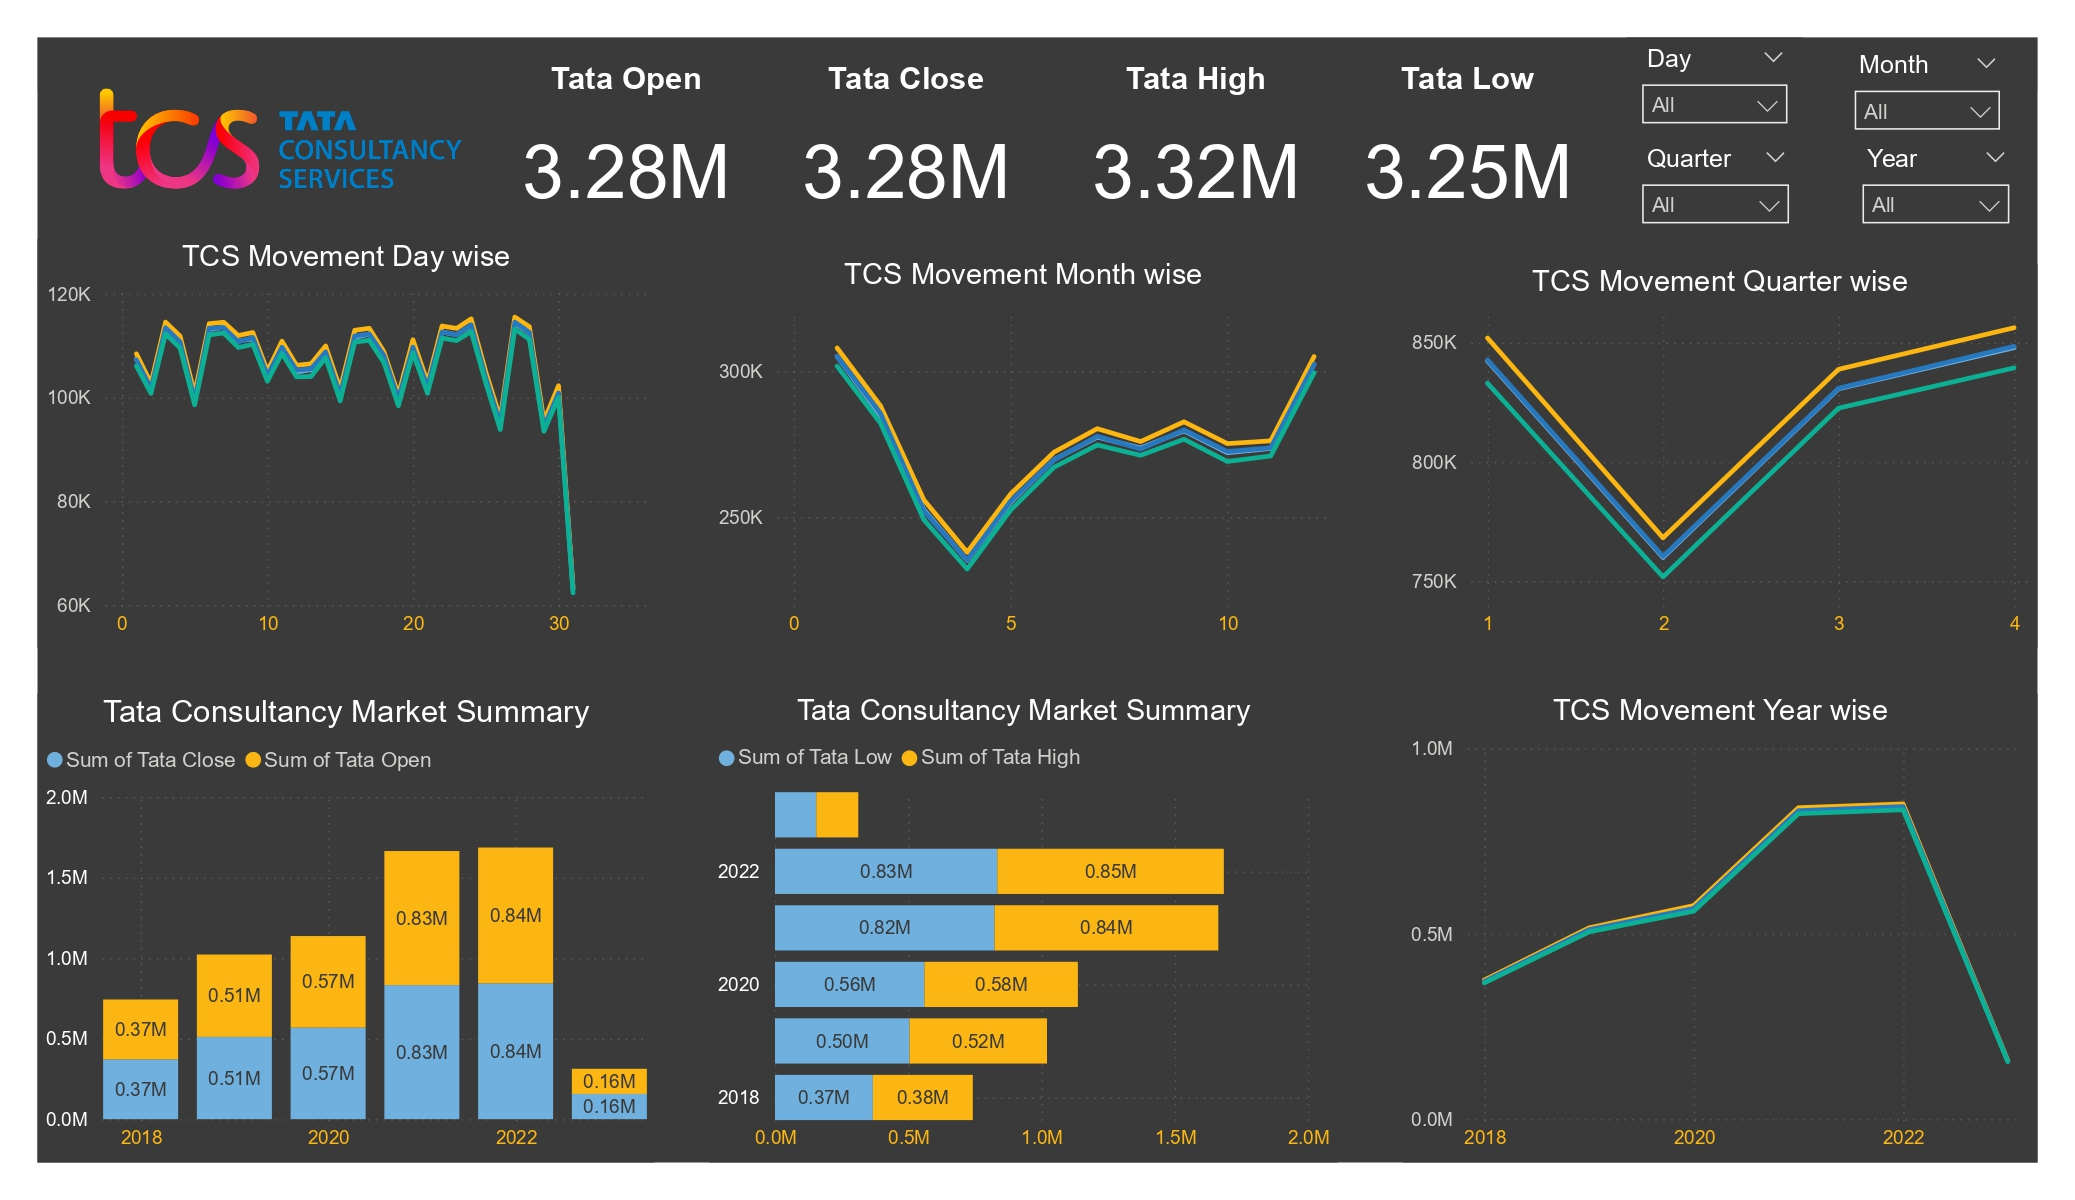

What the dashboard file says about the page in this screenshot:
{"tool":"powerbi","page":{"name":"TCS","canvas":[1280,720],"ordinal":0},"visuals":[{"type":"image","box":[0,0,328,140],"z":0},{"type":"card","title":"Tata Open ","fields":{"Values":["Sum(TCS NS.Tata Open)"]},"box":[328,9.6,156.4,109.8],"z":1},{"type":"card","title":"Tata High","fields":{"Values":["Sum(TCS NS.Tata High)"]},"box":[664.2,6.9,155.1,112.5],"z":2},{"type":"card","title":"Tata Low","fields":{"Values":["Sum(TCS NS.Tata Low)"]},"box":[499.5,6.9,140,112.5],"z":3},{"type":"card","title":"Tata Close","fields":{"Values":["Sum(TCS NS.Tata Close)"]},"box":[832.9,6.9,166,109.8],"z":4},{"type":"columnChart","title":" Tata Consultancy Market Summary ","fields":{"Category":["TCS NS.Year"],"Y":["Sum(TCS NS.Tata Open)","Sum(TCS NS.Tata Close)"]},"box":[0,444.6,377.4,275.8],"z":5},{"type":"barChart","title":" Tata Consultancy Market Summary ","fields":{"Category":["TCS NS.Year"],"Y":["Sum(TCS NS.Tata High)","Sum(TCS NS.Tata Low)"]},"box":[424,444.6,377.4,275.8],"z":6},{"type":"lineChart","title":"TCS Stock Movement Day wise","fields":{"Category":["TCS NS.Day"],"Y":["Sum(TCS NS.Tata Close)","Sum(TCS NS.Tata High)","Sum(TCS NS.Tata Low)","Sum(TCS NS.Tata Open)"]},"box":[0,161.9,377.4,245.6],"z":7},{"type":"lineChart","title":"TCS Stock Movement Month wise","fields":{"Y":["Sum(TCS NS.Tata Close)","Sum(TCS NS.Tata High)","Sum(TCS NS.Tata Low)","Sum(TCS NS.Tata Open)"],"Category":["TCS NS.Months"]},"box":[424,161.9,377.4,245.6],"z":8},{"type":"lineChart","title":"TCS Stock Movement Quarter wise","fields":{"Y":["Sum(TCS NS.Tata Close)","Sum(TCS NS.Tata High)","Sum(TCS NS.Tata Low)","Sum(TCS NS.Tata Open)"],"Category":["TCS NS.Quarter"]},"box":[832.9,161.9,395.2,245.6],"z":9},{"type":"lineChart","title":"TCS Stock Movement Yearly wise","fields":{"Y":["Sum(TCS NS.Tata Close)","Sum(TCS NS.Tata High)","Sum(TCS NS.Tata Low)","Sum(TCS NS.Tata Open)"],"Category":["TCS NS.Year"]},"box":[832.9,444.6,395.2,275.8],"z":10},{"type":"slicer","fields":{"Values":["TCS NS.Date.Variation.Date Hierarchy.Year"]},"box":[999,9.6,124.9,65.9],"z":11},{"type":"slicer","fields":{"Values":["TCS NS.Day"]},"box":[1143.1,75.5,115.3,64.5],"z":12},{"type":"slicer","fields":{"Values":["TCS NS.Quarter"]},"box":[1143.1,9.6,115.3,65.9],"z":13},{"type":"slicer","fields":{"Values":["TCS NS.Months"]},"box":[999,75.5,124.9,64.5],"z":14}]}

Visuals, with their boxes in screenshot pixels (x1, y1, x2, y2):
image: 38,38,550,256
"Tata Open " card: 550,52,794,224
"Tata High" card: 1075,48,1318,224
"Tata Low" card: 818,48,1037,224
"Tata Close" card: 1339,48,1598,220
" Tata Consultancy Market Summary " columnChart: 38,732,627,1162
" Tata Consultancy Market Summary " barChart: 700,732,1290,1162
"TCS Stock Movement Day wise" lineChart: 38,290,627,674
"TCS Stock Movement Month wise" lineChart: 700,290,1290,674
"TCS Stock Movement Quarter wise" lineChart: 1339,290,1956,674
"TCS Stock Movement Yearly wise" lineChart: 1339,732,1956,1162
slicer - TCS NS.Date.Variation.Date Hierarchy.Year: 1598,52,1794,155
slicer - TCS NS.Day: 1824,155,2004,256
slicer - TCS NS.Quarter: 1824,52,2004,155
slicer - TCS NS.Months: 1598,155,1794,256
